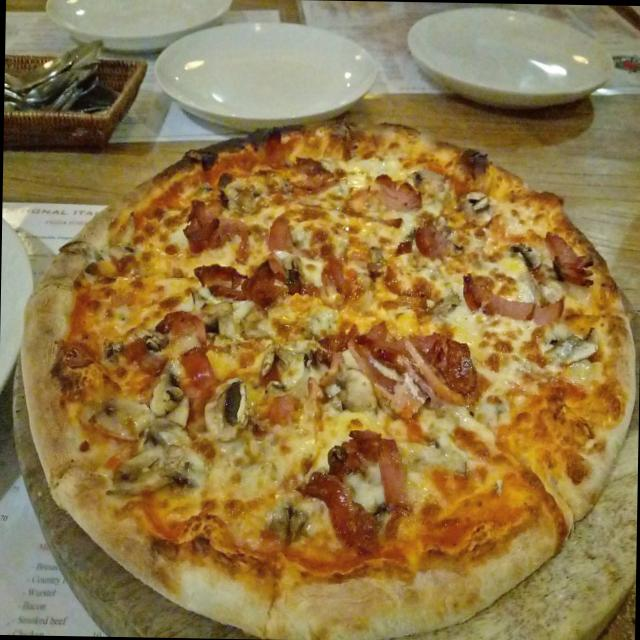mushrooms: (110, 438, 184, 496), (144, 368, 190, 436), (202, 376, 248, 439), (190, 295, 244, 347), (91, 396, 158, 435), (545, 327, 590, 376), (259, 341, 303, 386), (223, 175, 258, 222), (460, 189, 495, 232), (268, 244, 300, 279), (514, 236, 544, 270), (368, 242, 384, 275)
pizza: (18, 118, 636, 640)
